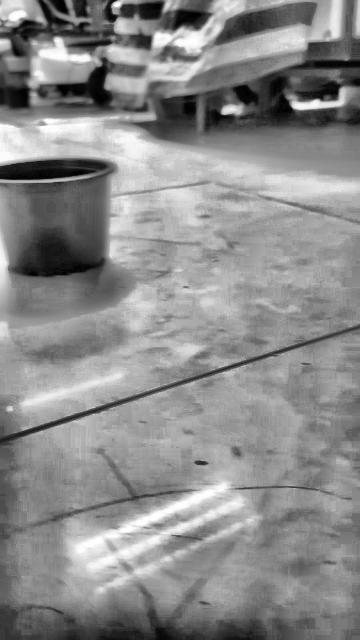pot: (0, 157, 115, 276)
